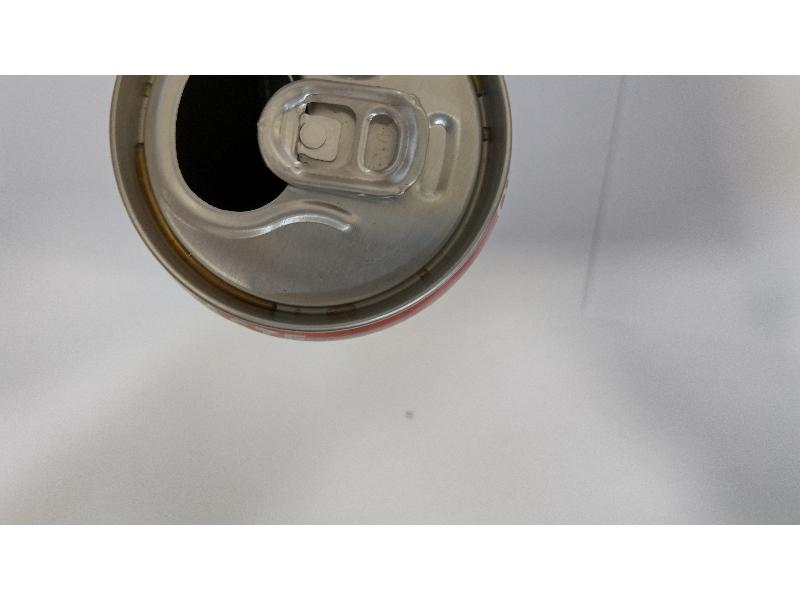can: (101, 73, 527, 345)
